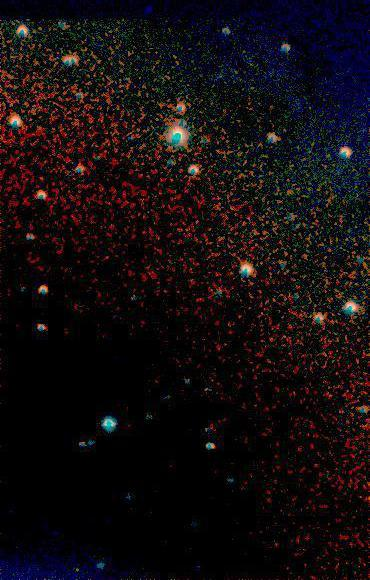star: (62, 558, 92, 580)
